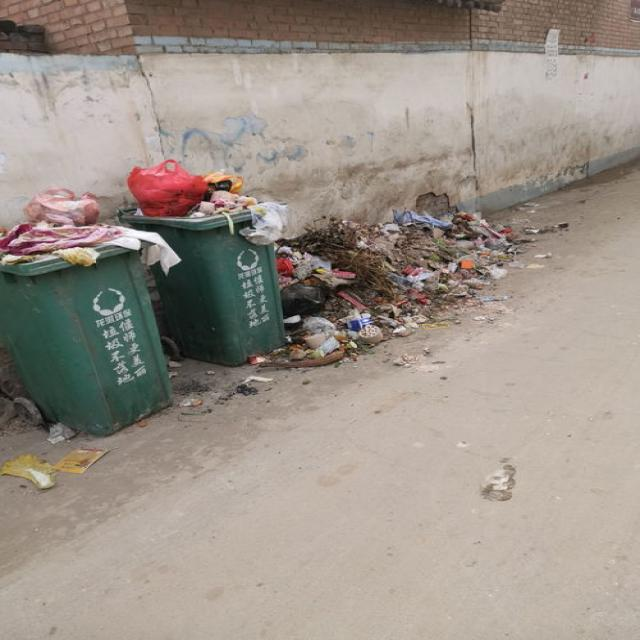garbage: (244, 208, 546, 366), (0, 447, 115, 490)
overflow: (0, 186, 183, 437), (115, 158, 283, 366)
